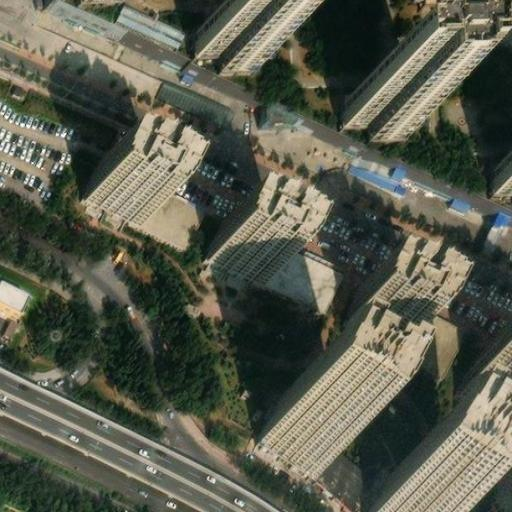building: (80, 0, 275, 89), (268, 243, 366, 314), (259, 393, 347, 469), (348, 276, 429, 344), (207, 215, 286, 282), (81, 152, 161, 217), (366, 459, 461, 512), (387, 156, 476, 211), (408, 300, 473, 370), (149, 78, 234, 130), (142, 180, 208, 244), (195, 21, 272, 66), (346, 94, 422, 136), (463, 345, 512, 409), (341, 157, 402, 195), (478, 212, 512, 260), (492, 161, 512, 188)
